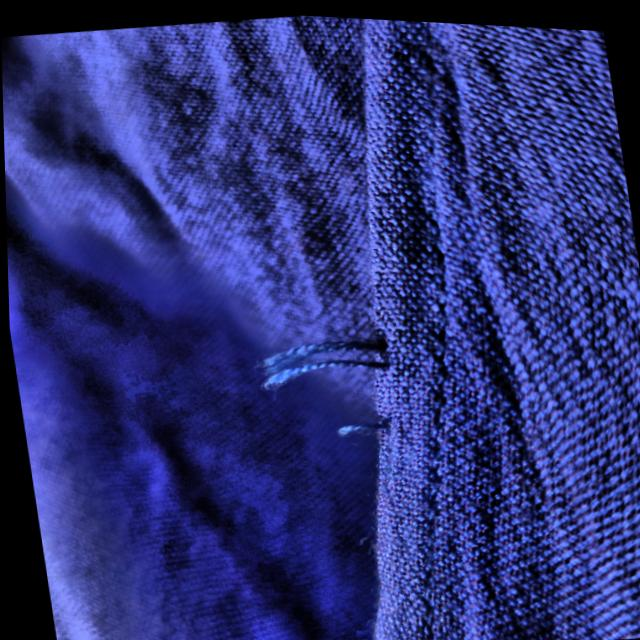Stitch: (222, 282, 404, 476)
